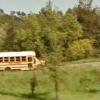Bus: (1, 46, 38, 74)
